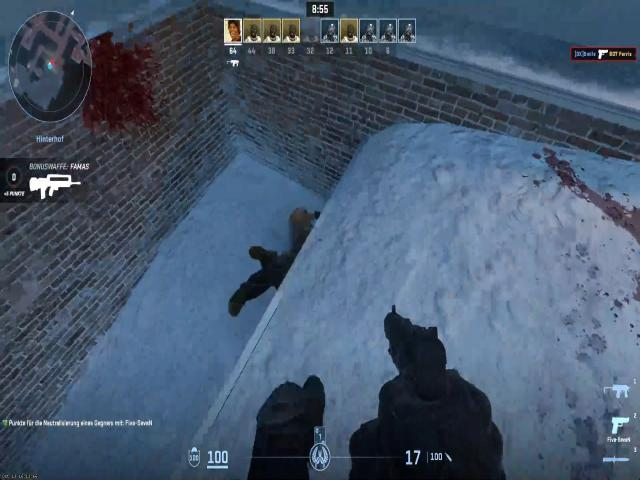Dead: (240, 194, 316, 307)
